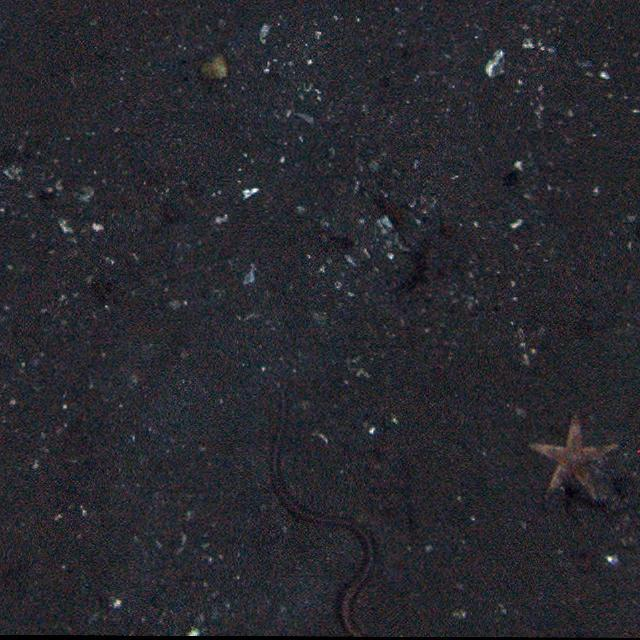eel: (272, 377, 384, 637)
